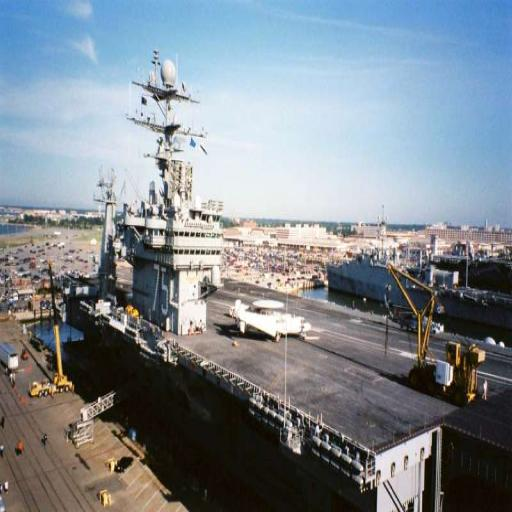Portanaves: (45, 45, 474, 511)
